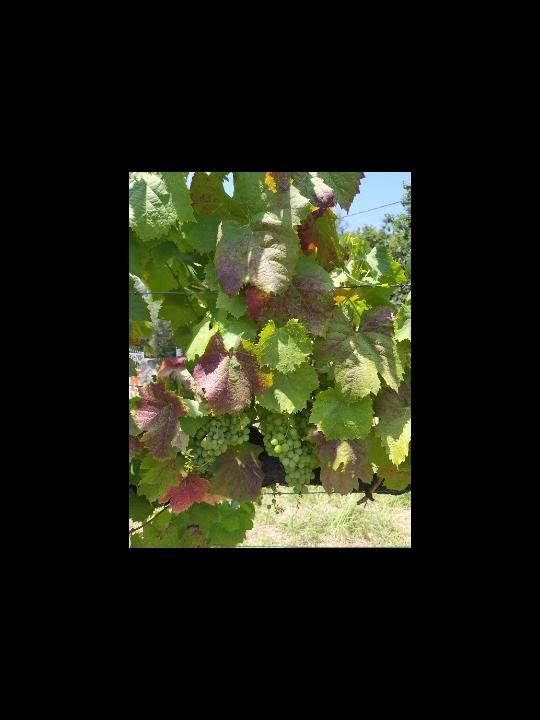grape: (259, 406, 325, 512), (191, 411, 251, 479)
